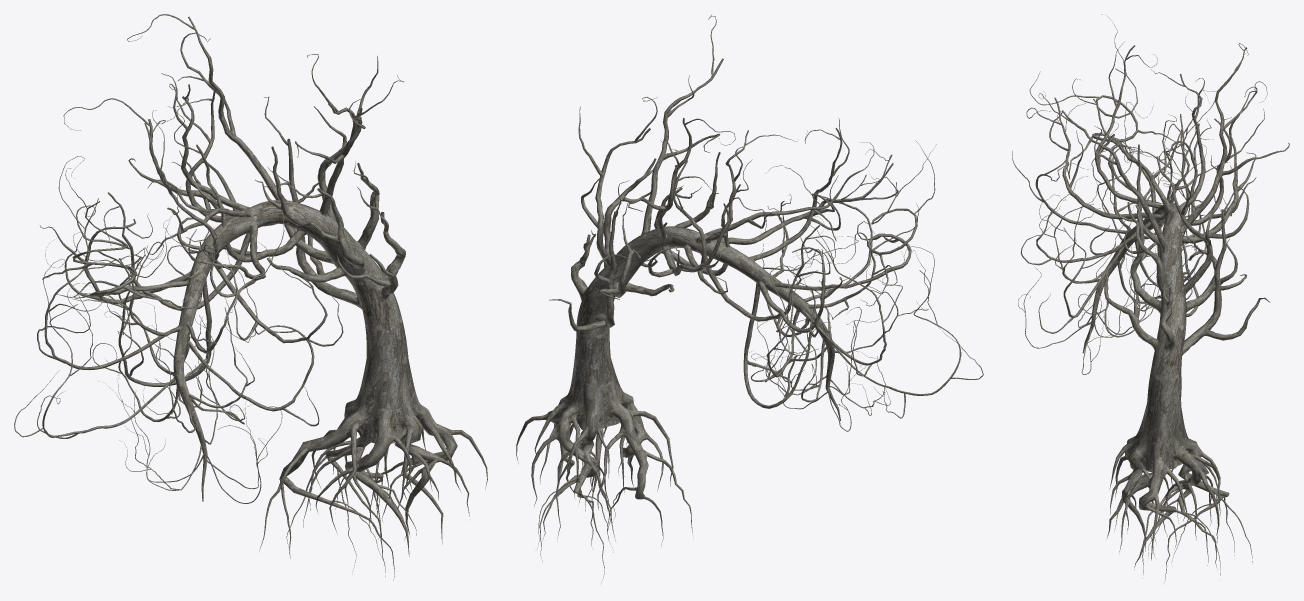
Rendered from dead-tree3.glb.
3 views of the same model, side by side, from view 1: azimuth 30°, elevation 25°; view 2: azimuth 150°, elevation 25°; view 3: azimuth 270°, elevation 25° (orthographic). The views are drawn at different scales.
Parts seen in each view (by area): view 1: Object_8; view 2: Object_8; view 3: Object_8.
Part boxes in pixels (box(x1,y1,x2,y2)): Object_8: box(14, 14, 487, 580); Object_8: box(516, 14, 983, 582); Object_8: box(1012, 14, 1289, 582).
Bounding box in the file's own units: 7.22 × 7.91 × 4.21.
Materials: 1 (1 with a texture image).
